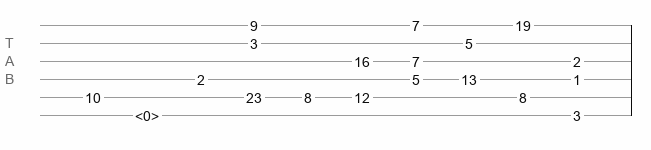1: (573, 72, 581, 82)
10: (85, 90, 101, 100)
12: (354, 90, 370, 100)
13: (461, 72, 477, 82)
16: (354, 54, 370, 64)
19: (515, 18, 531, 28)
2: (197, 72, 205, 82), (573, 54, 581, 64)
23: (246, 90, 262, 100)
3: (250, 36, 258, 46), (573, 108, 581, 118)
5: (412, 72, 420, 82), (465, 36, 473, 46)
7: (412, 54, 420, 64), (412, 18, 420, 28)
8: (304, 90, 312, 100), (519, 90, 527, 100)
9: (250, 18, 258, 28)
harmonic: (135, 108, 159, 118)
